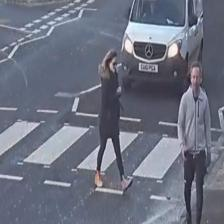person: (177, 61, 211, 222), (94, 50, 132, 190)
